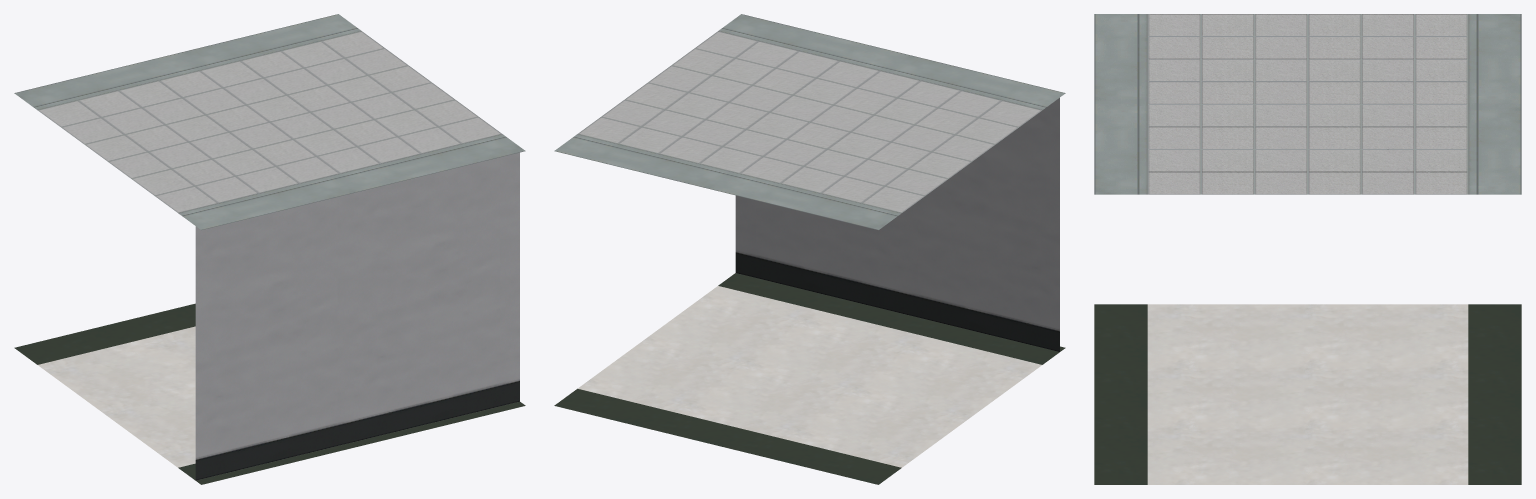
Rendered from Corridor_OneWall.fbx.
3 views of the same model, side by side, from view 1: azimuth 30°, elevation 25°; view 2: azimuth 150°, elevation 25°; view 3: azimuth 270°, elevation 25° (orthographic). The views are drawn at different scales.
Parts seen in each view (by area): view 1: Wall, Ceiling_I, Marble_Floor_I; view 2: Ceiling_I, Marble_Floor_I, Wall; view 3: Ceiling_I, Marble_Floor_I.
Boxes of the visible parts, x1,y1,x2,y2 form: Wall: (195,152,519,480); Ceiling_I: (14,14,525,230); Marble_Floor_I: (14,303,525,484); Ceiling_I: (554,14,1065,230); Marble_Floor_I: (554,273,1065,484); Wall: (735,98,1059,351); Ceiling_I: (1094,14,1521,194); Marble_Floor_I: (1094,304,1521,484).
Size of the model in its own units: 4 by 3 by 4.
5 materials, 5 textured.
